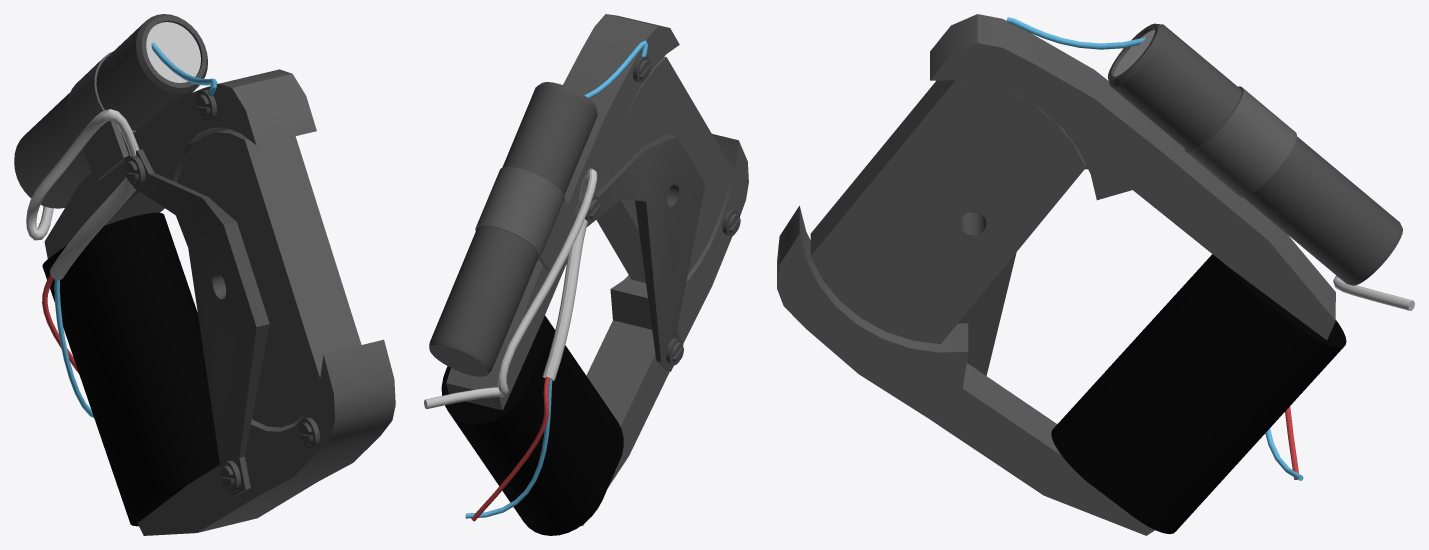
Rendered from Ignition.fbx.
3 renders of one model, left to right at view 1: azimuth 30°, elevation 25°; view 2: azimuth 150°, elevation 25°; view 3: azimuth 270°, elevation 25°, orthographic. The views are drawn at different scales.
Visible parts, largest first — view 1: igniton; view 2: igniton; view 3: igniton.
Part boxes in pixels (left/top/right/bottom): igniton: left=14, top=14, right=395, bottom=535; igniton: left=424, top=14, right=748, bottom=535; igniton: left=777, top=14, right=1414, bottom=535.
Size of the model in its own units: 27.82 by 126 by 146.
